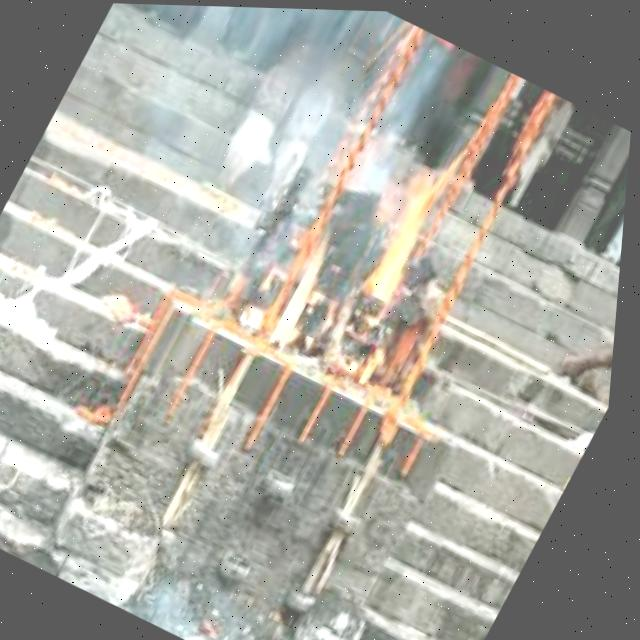Fire: (232, 101, 482, 395)
